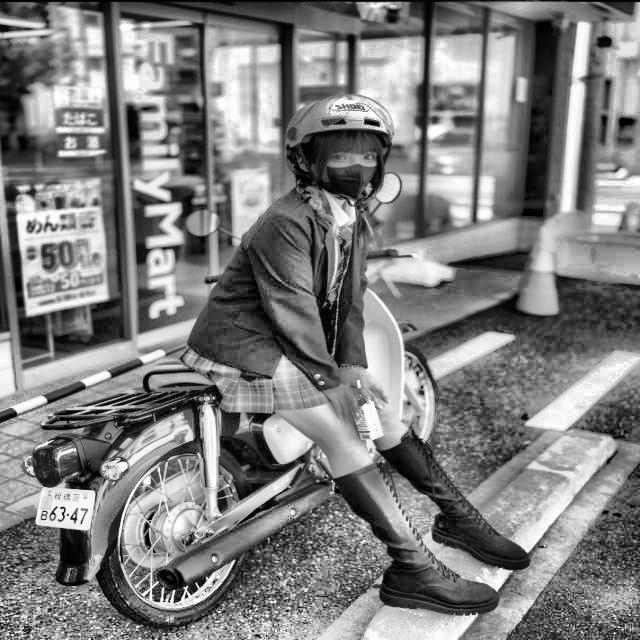Helmet: (278, 91, 397, 210)
